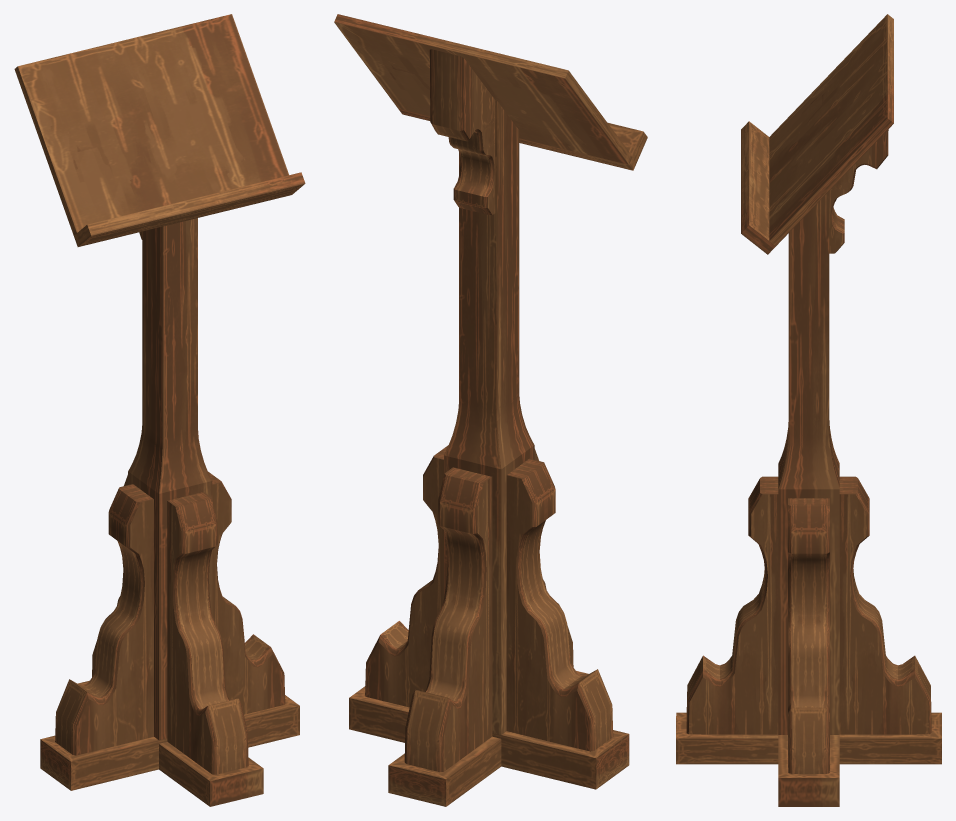
File: BookStand.gltf
3 views of the same model, side by side, from view 1: azimuth 30°, elevation 25°; view 2: azimuth 150°, elevation 25°; view 3: azimuth 270°, elevation 25° (orthographic). The views are drawn at different scales.
Visible parts, largest first — view 1: BookStand; view 2: BookStand; view 3: BookStand.
Boxes of the visible parts, x1,y1,x2,y2 form: BookStand: [14, 14, 305, 806]; BookStand: [334, 14, 647, 806]; BookStand: [676, 14, 941, 806].
Bounding box in the file's own units: 0.5071 × 1.45 × 0.5112.
Materials: 1 (1 with a texture image).
